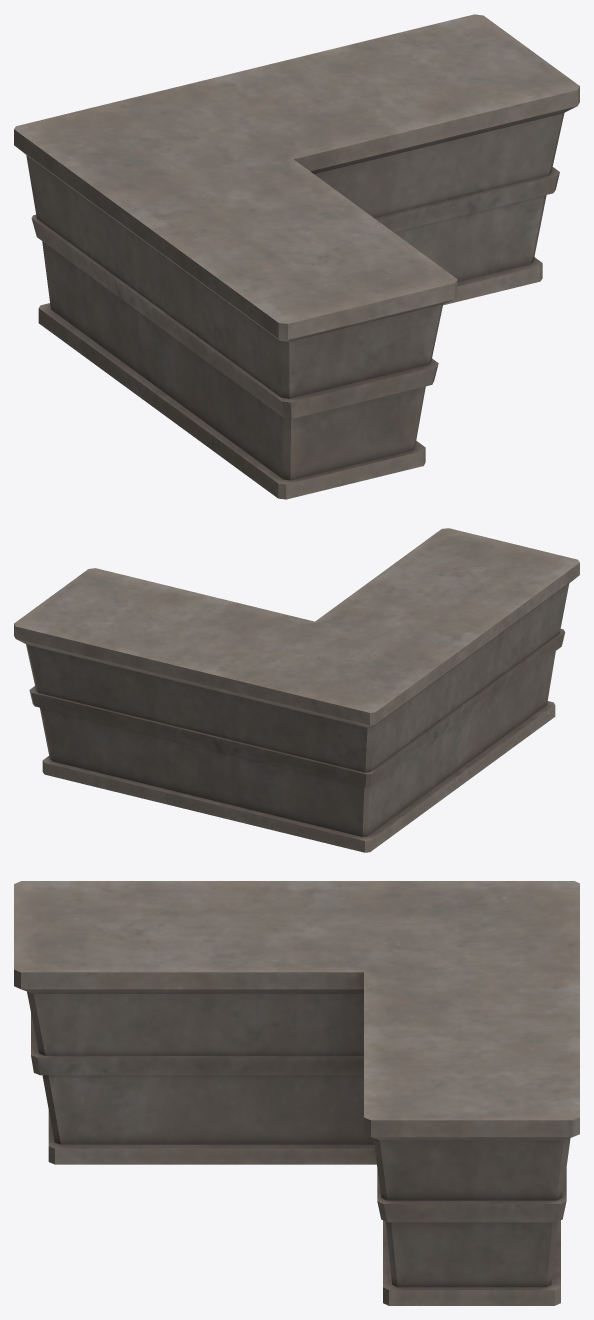
Rendered from sb_obj_outdoor009_AncientTemple_WallTopD.fbx.
3 renders of one model, top to bottom at view 1: azimuth 30°, elevation 25°; view 2: azimuth 150°, elevation 25°; view 3: azimuth 270°, elevation 25°, orthographic. The views are drawn at different scales.
Parts seen in each view (by area): view 1: sb_obj_outdoor009_AncientTemple_WallTopD; view 2: sb_obj_outdoor009_AncientTemple_WallTopD; view 3: sb_obj_outdoor009_AncientTemple_WallTopD.
Boxes of the visible parts, x1,y1,x2,y2 form: sb_obj_outdoor009_AncientTemple_WallTopD: [14, 14, 579, 499]; sb_obj_outdoor009_AncientTemple_WallTopD: [14, 528, 579, 852]; sb_obj_outdoor009_AncientTemple_WallTopD: [14, 881, 579, 1305].
Bounding box in the file's own units: 5.09 × 1.98 × 5.09.
